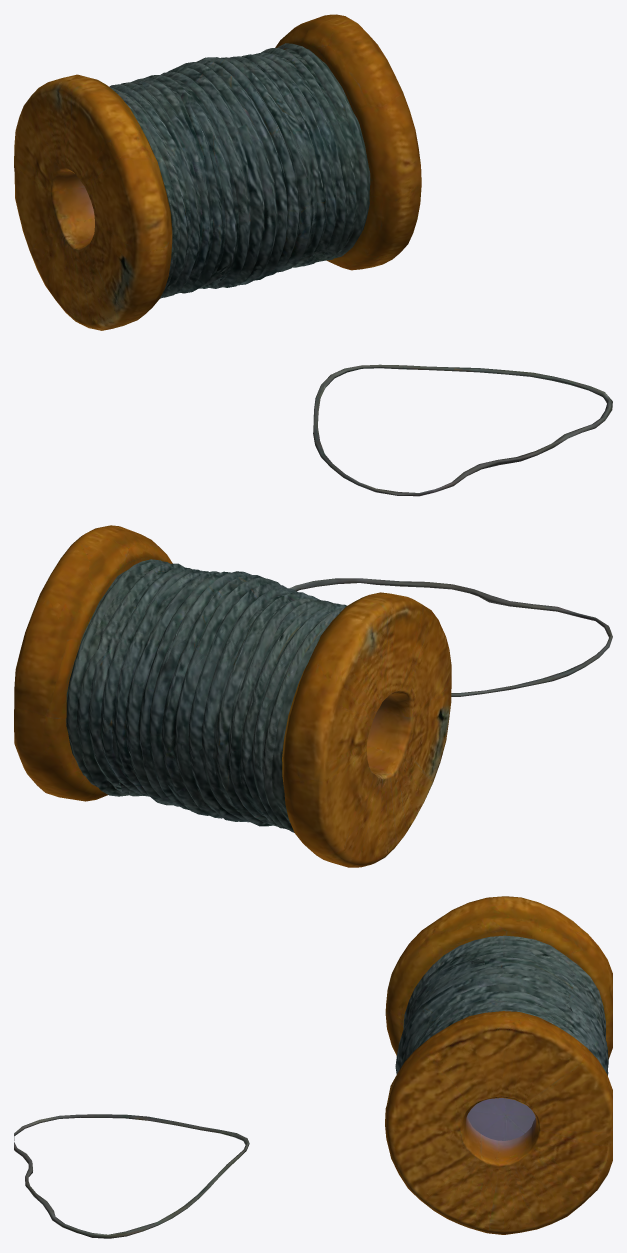
File: twine-spool.glb
3 renders of one model, top to bottom at view 1: azimuth 30°, elevation 25°; view 2: azimuth 150°, elevation 25°; view 3: azimuth 270°, elevation 25°, orthographic. The views are drawn at different scales.
Parts seen in each view (by area): view 1: geometry_0; view 2: geometry_0; view 3: geometry_0.
Part boxes in pixels (<box>): geometry_0: <box>14,14,612,496</box>; geometry_0: <box>14,525,612,867</box>; geometry_0: <box>14,896,612,1238</box>.
Size of the model in its own units: 0.5587 by 0.4021 by 1.
Materials: 1 (1 with a texture image).
